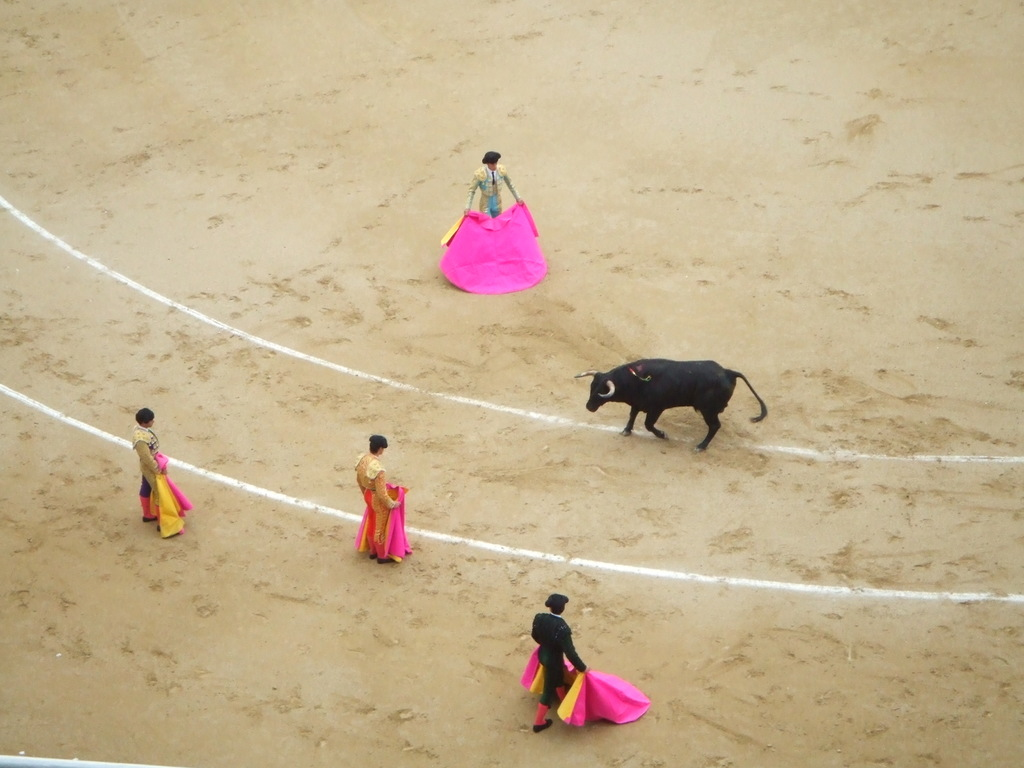Person: (529, 590, 589, 733), (351, 432, 400, 566), (129, 406, 169, 529), (464, 150, 524, 220)
